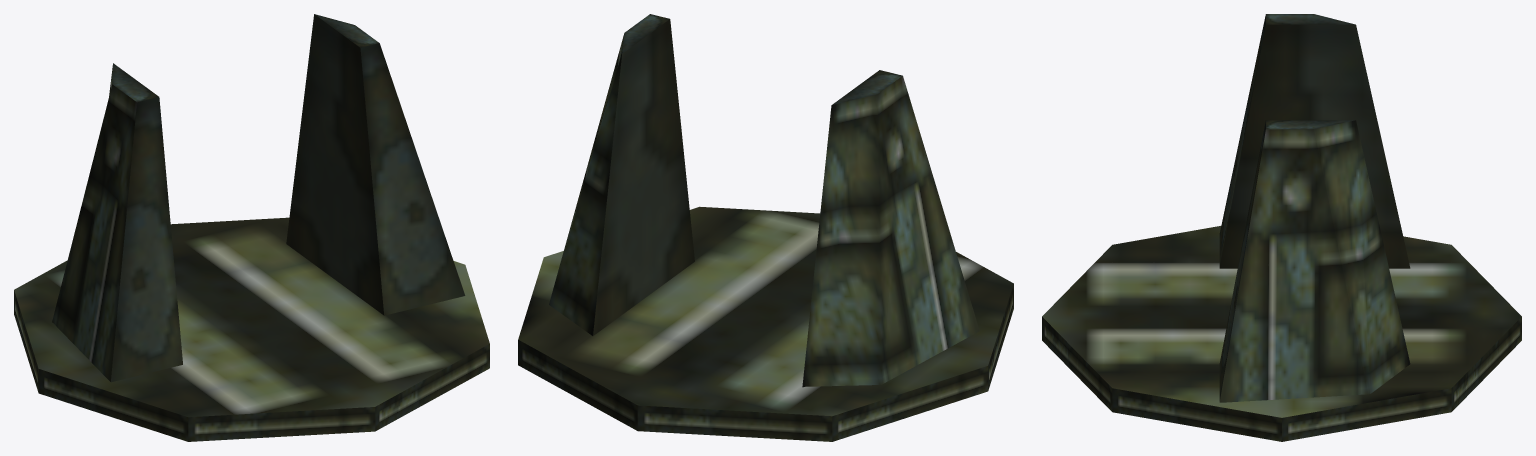
File: machinegun.obj
The picture shows the model from 3 angles, left to right: view 1: azimuth 30°, elevation 25°; view 2: azimuth 150°, elevation 25°; view 3: azimuth 270°, elevation 25°; orthographic projection. The views are drawn at different scales.
Parts seen in each view (by area): view 1: Machine; view 2: Machine; view 3: Machine.
Boxes of the visible parts, x1,y1,x2,y2 form: Machine: [14, 14, 489, 441]; Machine: [518, 14, 1013, 441]; Machine: [1042, 14, 1521, 441].
Bounding box in the file's own units: 5.03 × 3.1 × 5.03.
Materials: 1 (1 with a texture image).
